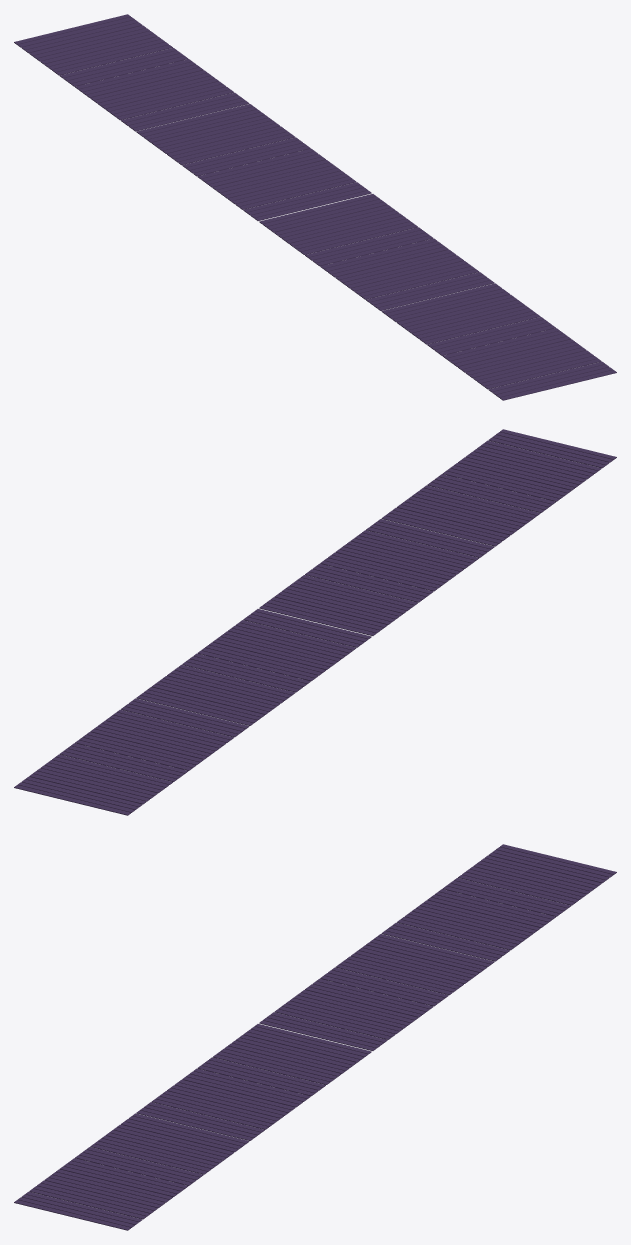
File: palet.fbx
The picture shows the model from 3 angles, top to bottom: view 1: azimuth 30°, elevation 25°; view 2: azimuth 150°, elevation 25°; view 3: azimuth 330°, elevation 25°; orthographic projection.
Visible parts, largest first — view 1: palet; view 2: palet; view 3: palet.
Part boxes in pixels (x1,y1,x2,y2): palet: (14,14,616,400); palet: (14,429,616,815); palet: (14,844,616,1230).
Bounding box in the file's own units: 36.69 × 0.2208 × 273.
